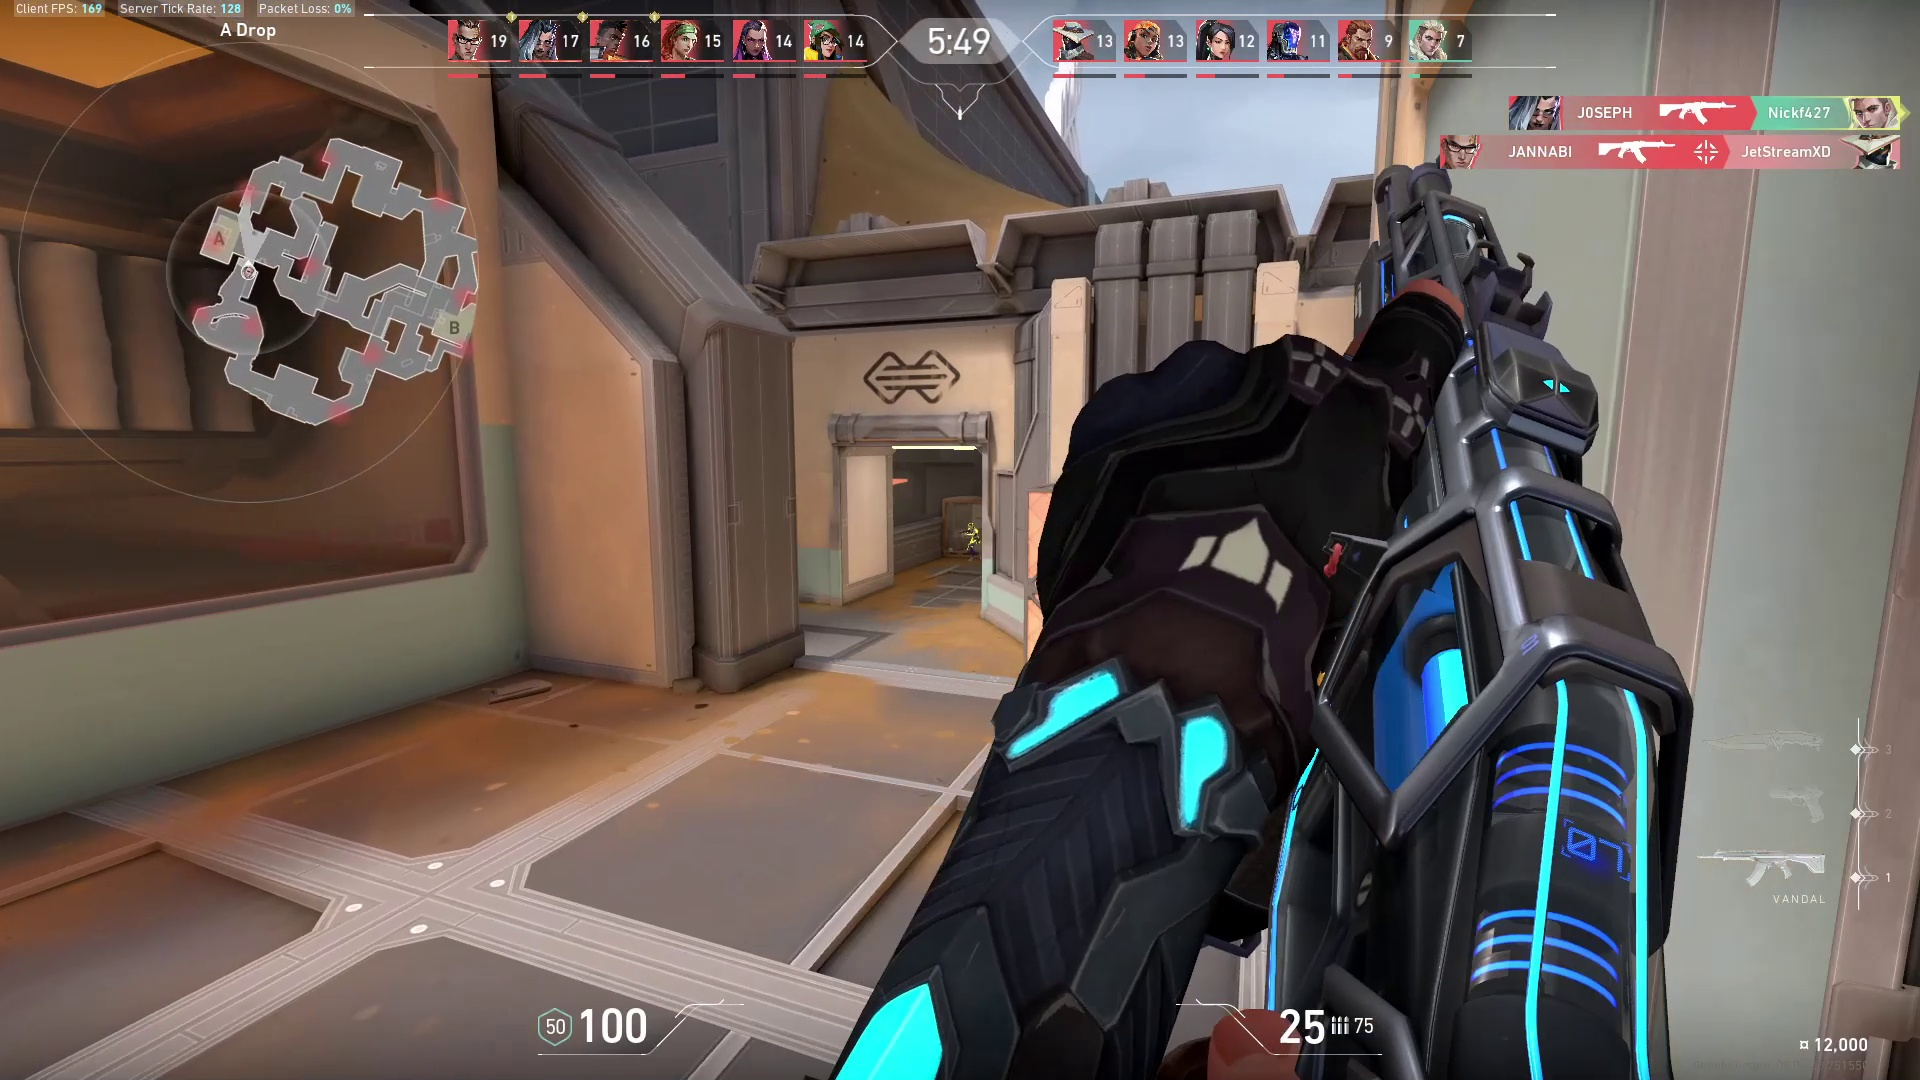enemy_body: (963, 531, 982, 562)
enemy_head: (967, 520, 977, 530)
